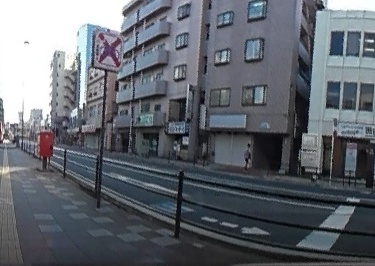person: (242, 142, 252, 170)
